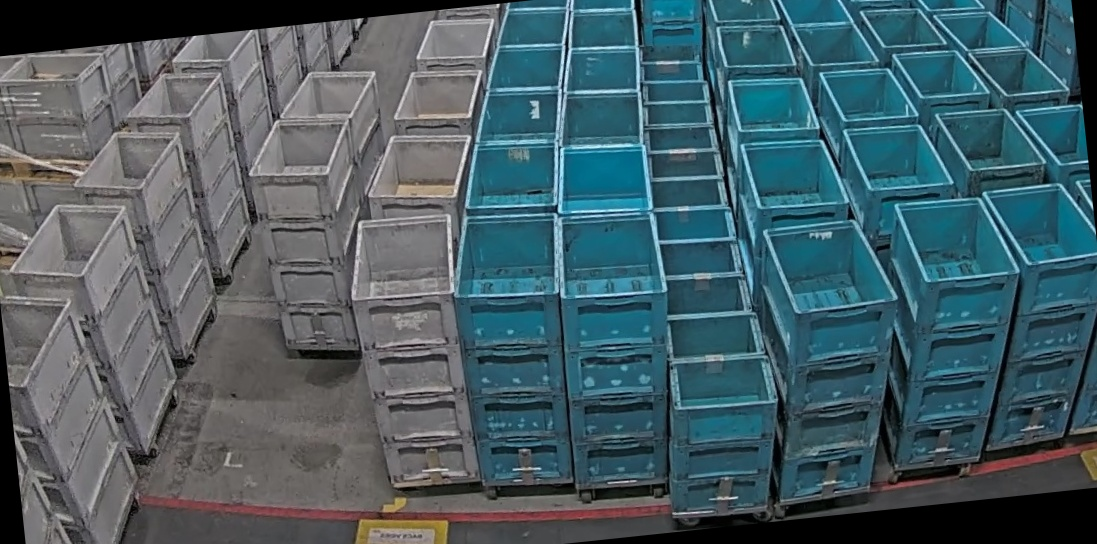4G: (342, 209, 479, 492), (244, 112, 377, 362)
B4: (859, 190, 1041, 472), (747, 211, 916, 503), (548, 205, 688, 489), (448, 207, 587, 491), (960, 179, 1097, 448)
B8: (649, 304, 789, 516)
